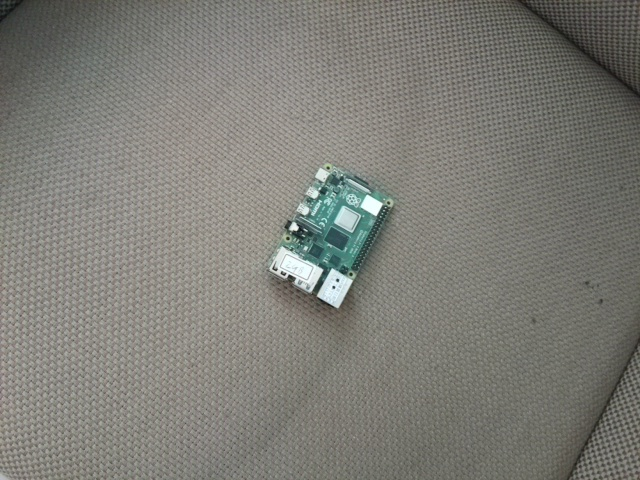Pi4: (264, 158, 401, 317)
